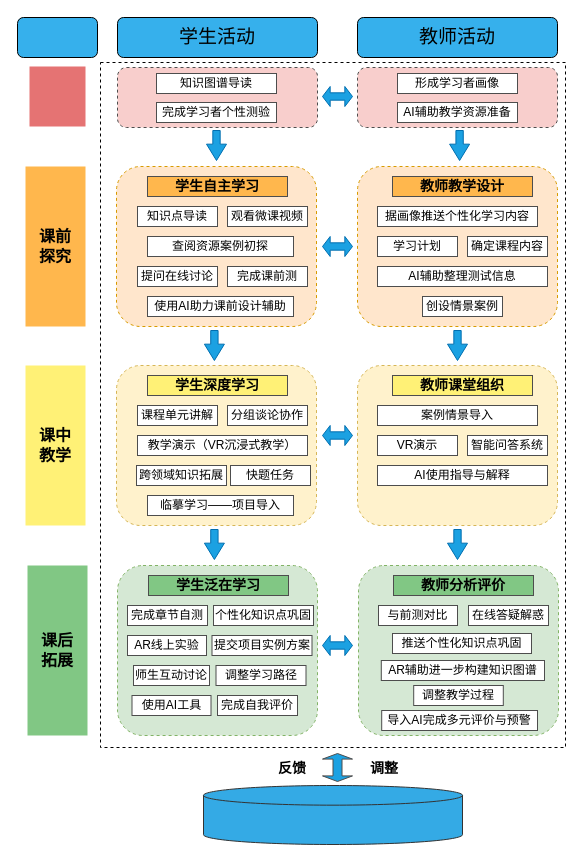
This 583x862 diagram has some shape labels left out. Here are the shapes that lost their labels. From the top down, the box of each, then its label:
(16, 16, 98, 58): 教学环节
(29, 66, 85, 126): 学前 准备
(202, 784, 462, 844): 基于学科知识图谱的智慧教学平台
